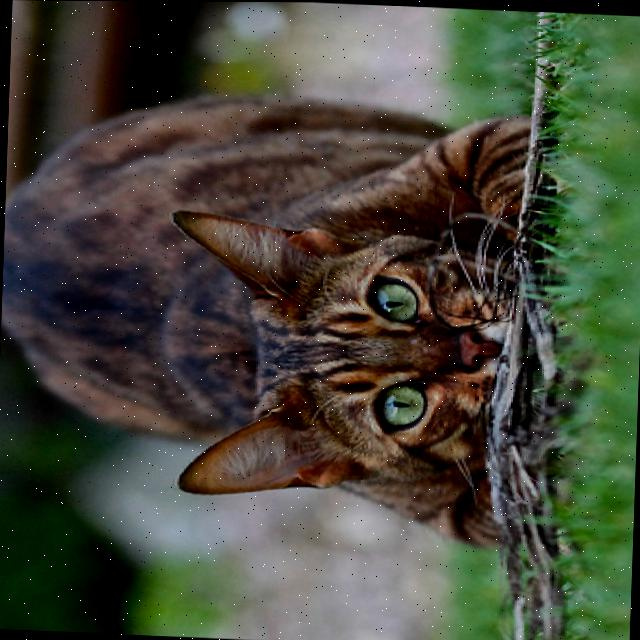Bengal: (0, 76, 562, 554)
